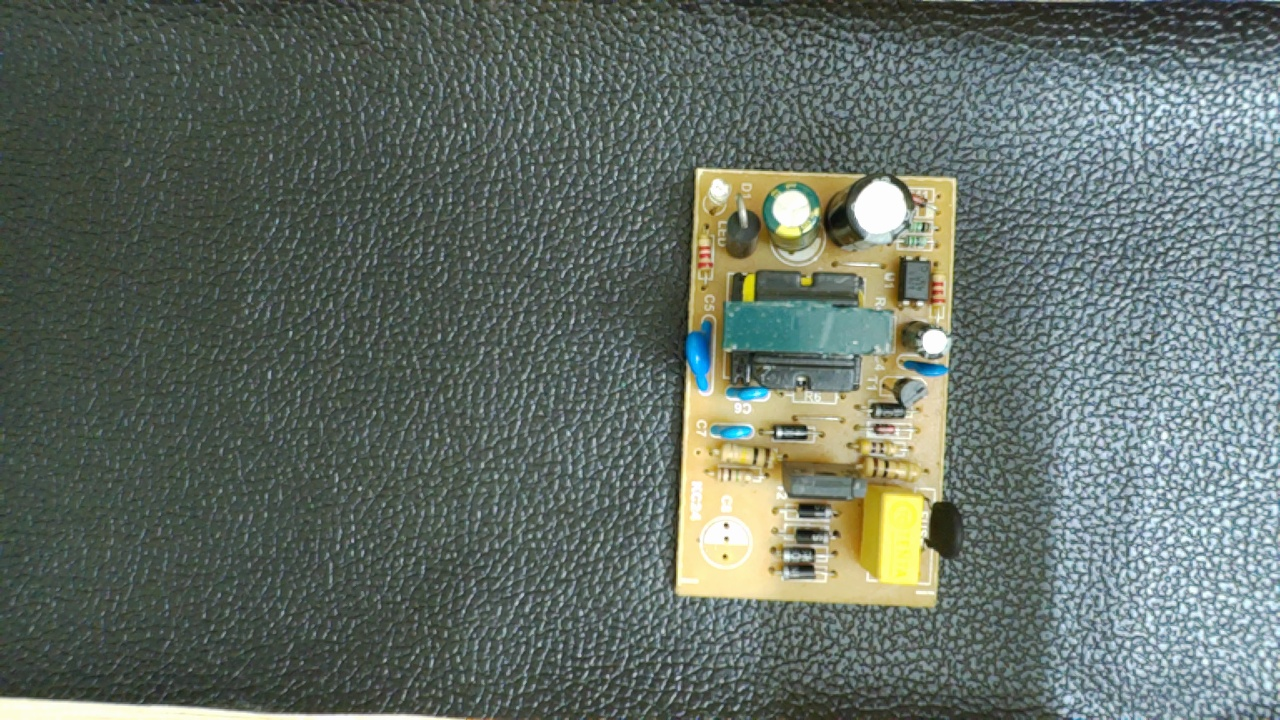fuse: (917, 485, 966, 566)
mov: (687, 314, 722, 399)
optocoupler: (894, 251, 938, 312)
